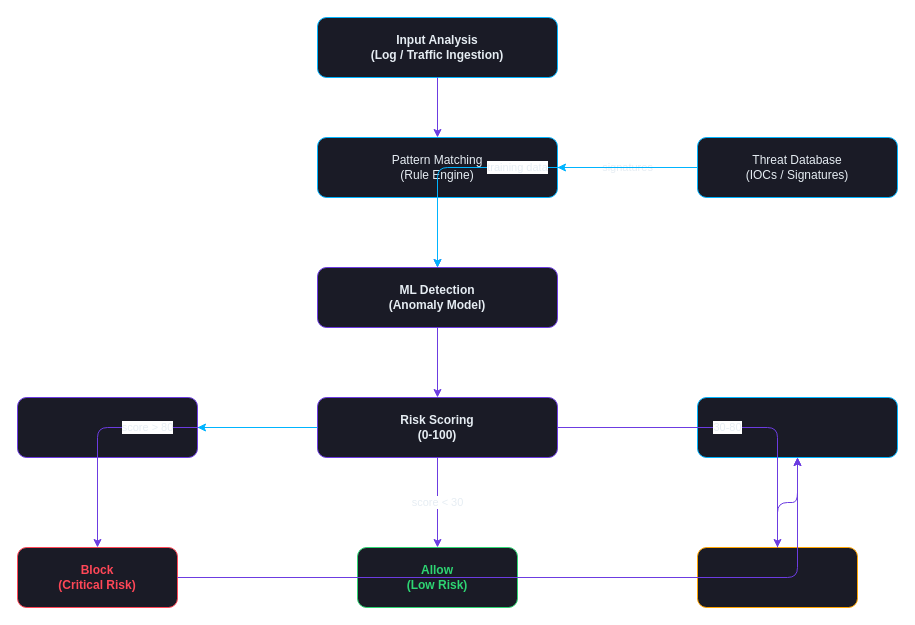
This 915x625 diagram has some shape labels left out. Each missing label, with the centre of its shape:
Alert System (PagerDuty / Slack): point 797,427
Audit Log (Immutable Record): point 107,427
Quarantine (Medium Risk): point 777,577
